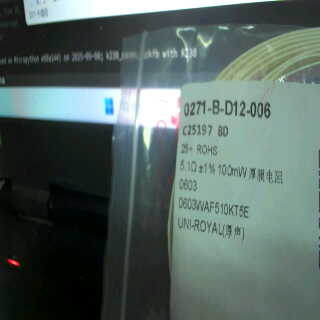5.1R: (177, 155, 199, 178)
